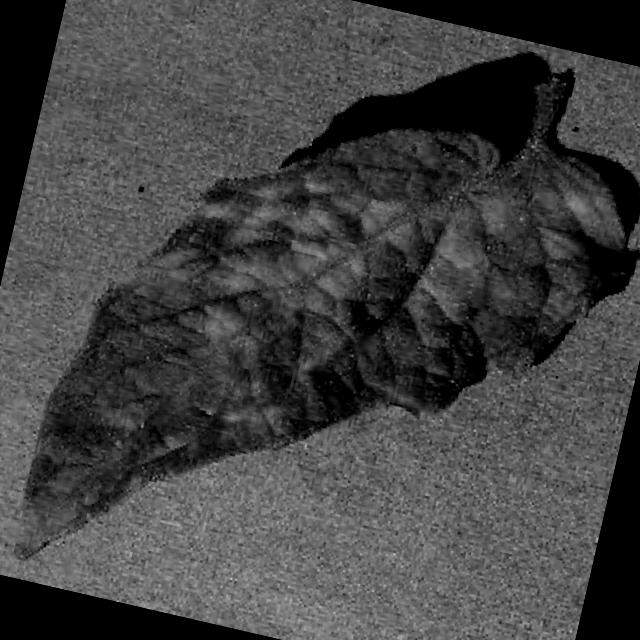leaf mold: (6, 77, 640, 566)
